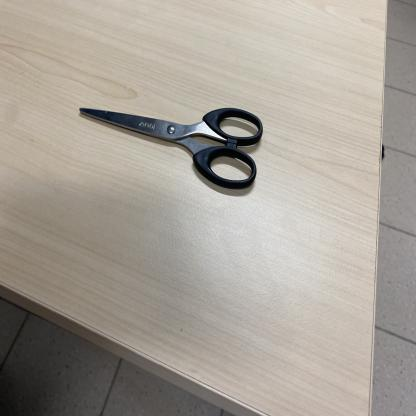scissors: (79, 107, 264, 190)
